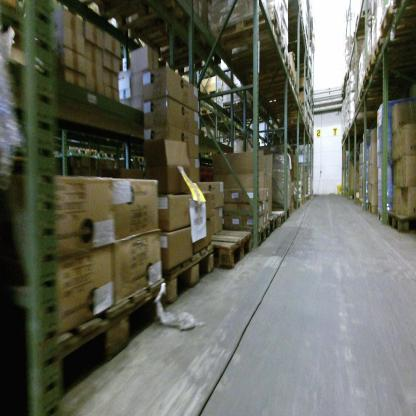pallet: (44, 274, 168, 391), (138, 21, 220, 77), (85, 2, 182, 49), (210, 9, 283, 57), (169, 238, 217, 305), (231, 39, 289, 82), (204, 224, 250, 271), (351, 93, 415, 116), (260, 91, 307, 119), (246, 63, 295, 89), (373, 34, 414, 60), (379, 6, 415, 35), (257, 78, 299, 102), (242, 222, 271, 256), (366, 54, 410, 75), (362, 72, 407, 90), (222, 100, 257, 122), (352, 6, 373, 40), (359, 87, 406, 102), (387, 211, 416, 235), (68, 144, 97, 157), (200, 104, 223, 119), (266, 215, 280, 237), (99, 148, 120, 161), (268, 207, 286, 222), (392, 1, 415, 11), (120, 150, 134, 164), (280, 203, 293, 218), (377, 208, 390, 222), (368, 201, 381, 215), (290, 198, 303, 211), (132, 153, 145, 164), (357, 196, 367, 209), (298, 195, 308, 204), (302, 195, 311, 204)
